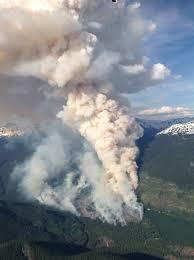fire: (0, 0, 146, 224)
